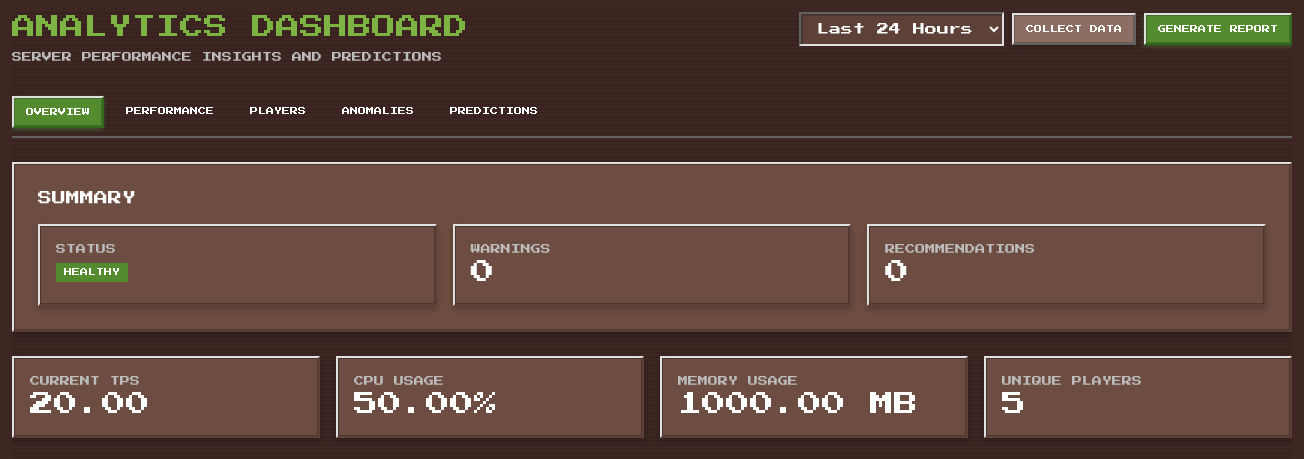
Analytics › switches to anomalies tab
Expected: the heading "Summary" is shown, [38, 191, 136, 205]
Step 1. Click the button "ANOMALIES" → (378, 112), box [328, 96, 428, 128]
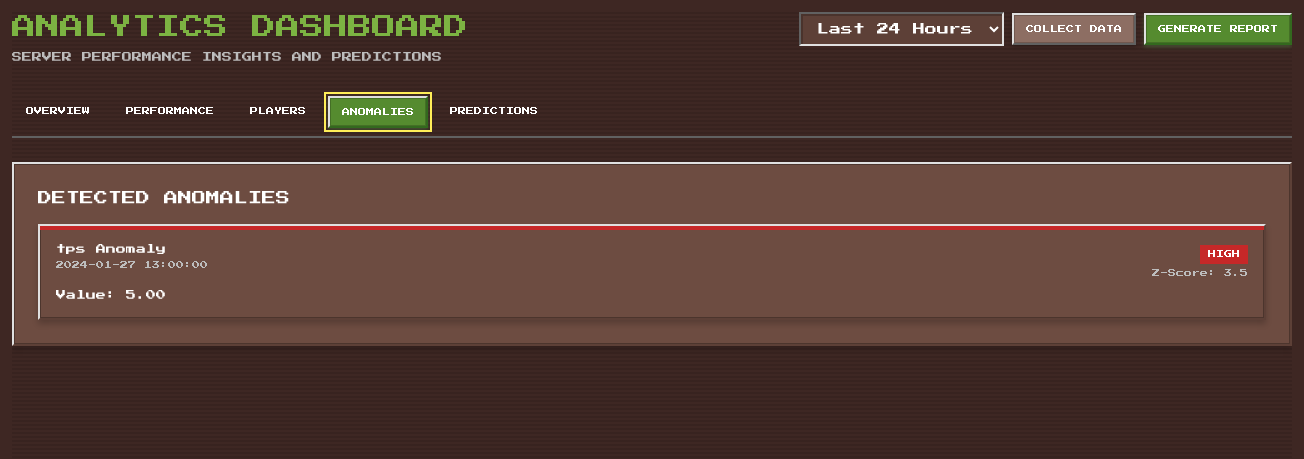
Now the heading "Detected Anomalies" is shown, box [38, 191, 290, 205]
Now the text "HIGH" is shown, box [1200, 245, 1248, 264]
